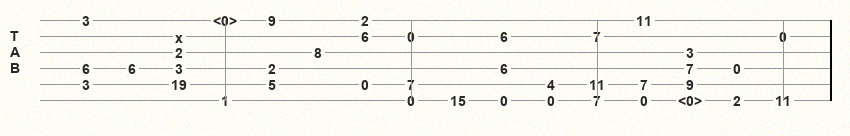0: (361, 77, 373, 91), (407, 29, 419, 43), (407, 93, 419, 107), (500, 93, 512, 107), (547, 93, 559, 107), (640, 93, 652, 107), (733, 61, 745, 75), (779, 29, 791, 43)
1: (221, 93, 233, 107)
11: (589, 77, 609, 91), (636, 13, 656, 27), (775, 93, 795, 107)
15: (450, 93, 470, 107)
19: (171, 77, 191, 91)
2: (175, 45, 187, 59), (268, 61, 280, 75), (361, 13, 373, 27), (733, 93, 745, 107)
3: (82, 13, 94, 27), (82, 77, 94, 91), (175, 61, 187, 75), (686, 45, 698, 59)
4: (547, 77, 559, 91)
5: (268, 77, 280, 91)
6: (82, 61, 94, 75), (128, 61, 140, 75), (361, 29, 373, 43), (500, 61, 512, 75), (500, 29, 512, 43)
7: (407, 77, 419, 91), (593, 93, 605, 107), (593, 29, 605, 43), (640, 77, 652, 91), (686, 61, 698, 75)
8: (314, 45, 326, 59)
9: (268, 13, 280, 27), (686, 77, 698, 91)
harmonic: (213, 13, 241, 27), (678, 93, 706, 107)
x: (175, 30, 187, 42)
